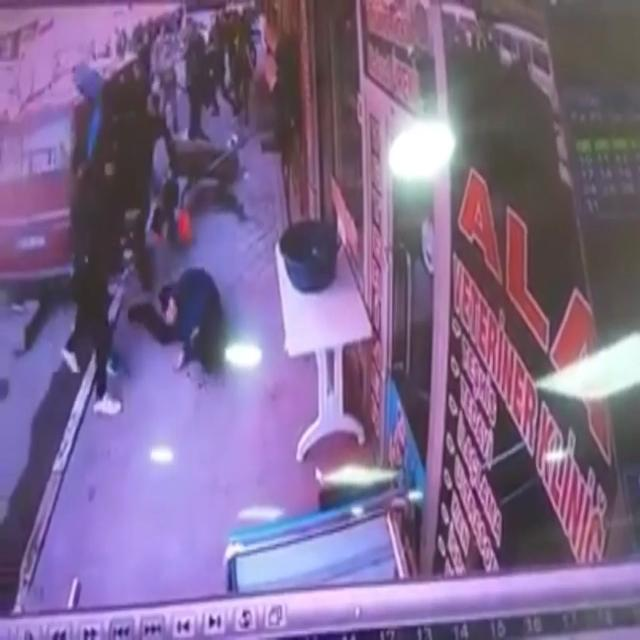fight: (76, 101, 246, 363)
